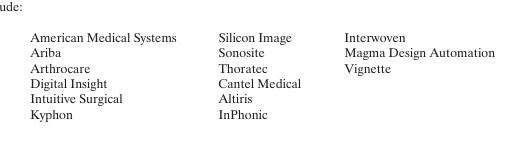table: (29, 28, 494, 120)
table column: (321, 28, 494, 120), (29, 28, 196, 120), (196, 28, 321, 120)
table column header: (29, 28, 494, 44)
table row: (29, 28, 494, 44), (29, 74, 494, 90), (29, 44, 494, 59), (29, 59, 494, 74), (29, 90, 494, 105), (29, 105, 494, 120)
